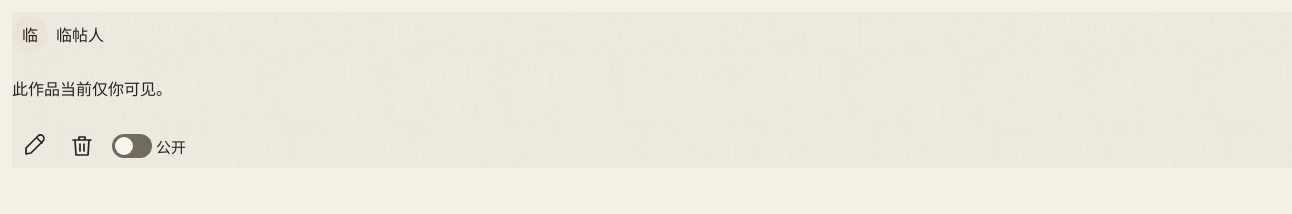
it: Work detail follows whether others can see the author's work › ignores a read-back that a later change replaced
Click the switch labelled "公开".
click(149, 146)  # box [108,124,190,168]
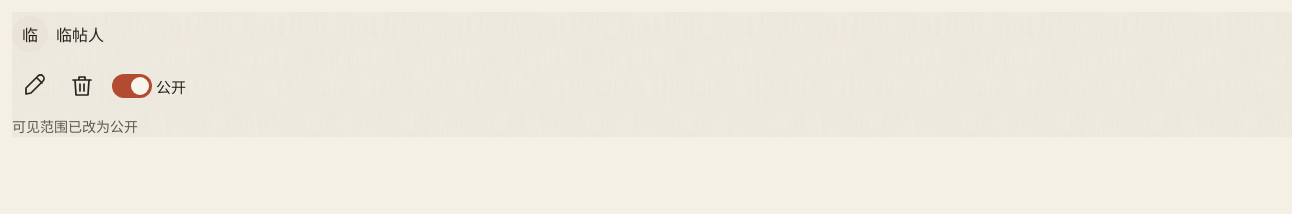
Click the switch labelled "公开".
click(149, 86)  # box [108,64,190,108]
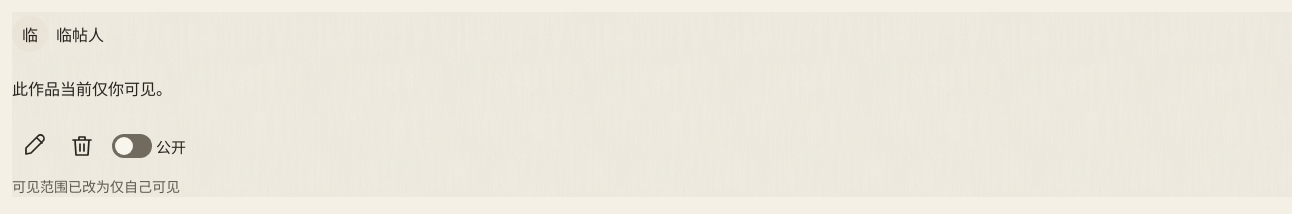
Expected: the text "此作品当前仅你可见。" is shown, [12,76,172,100]
